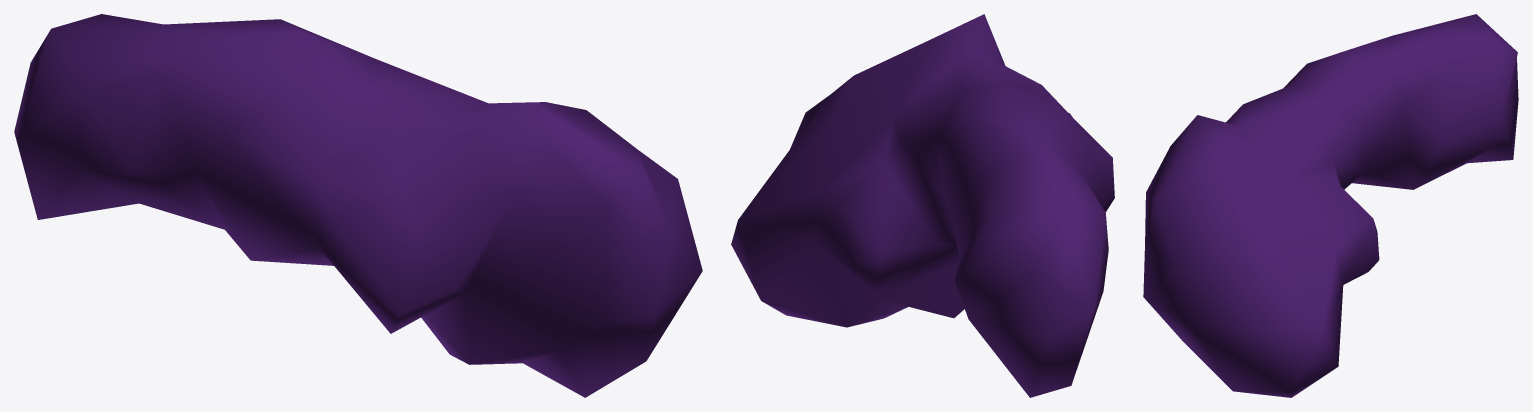
Rendered from Mgenitalium_greA_1grj_0_1_0.dae.
3 renders of one model, left to right at view 1: azimuth 30°, elevation 25°; view 2: azimuth 150°, elevation 25°; view 3: azimuth 270°, elevation 25°, orthographic. The views are drawn at different scales.
Parts seen in each view (by area): view 1: CoarseMS_1grj; view 2: CoarseMS_1grj; view 3: CoarseMS_1grj.
Boxes of the visible parts, x1,y1,x2,y2 form: CoarseMS_1grj: (14, 14, 702, 397); CoarseMS_1grj: (731, 14, 1114, 397); CoarseMS_1grj: (1143, 14, 1518, 397).
Bounding box in the file's own units: 64.12 × 42.93 × 55.94.
